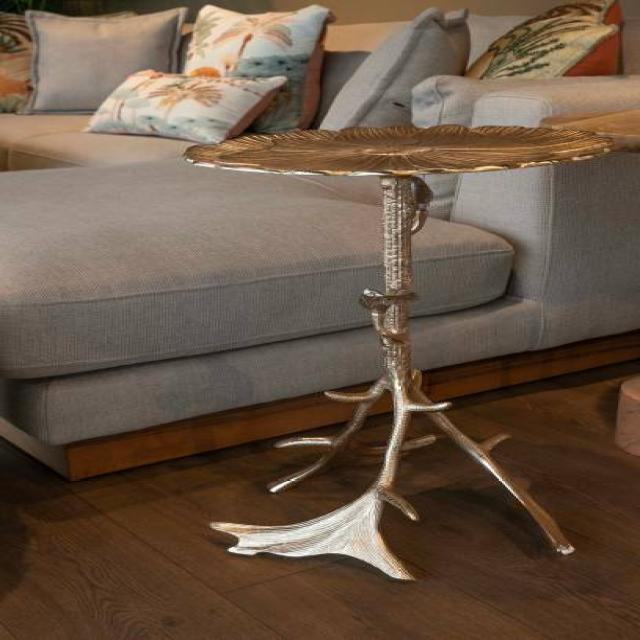table: (180, 122, 616, 582)
